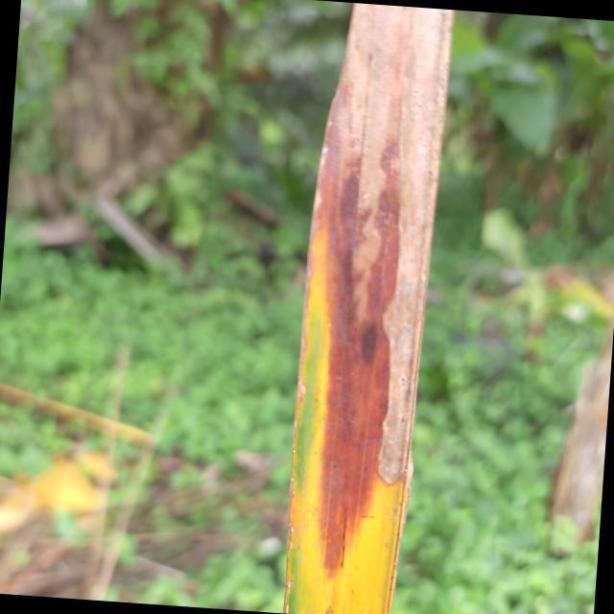Megnesium: (286, 0, 456, 614)
